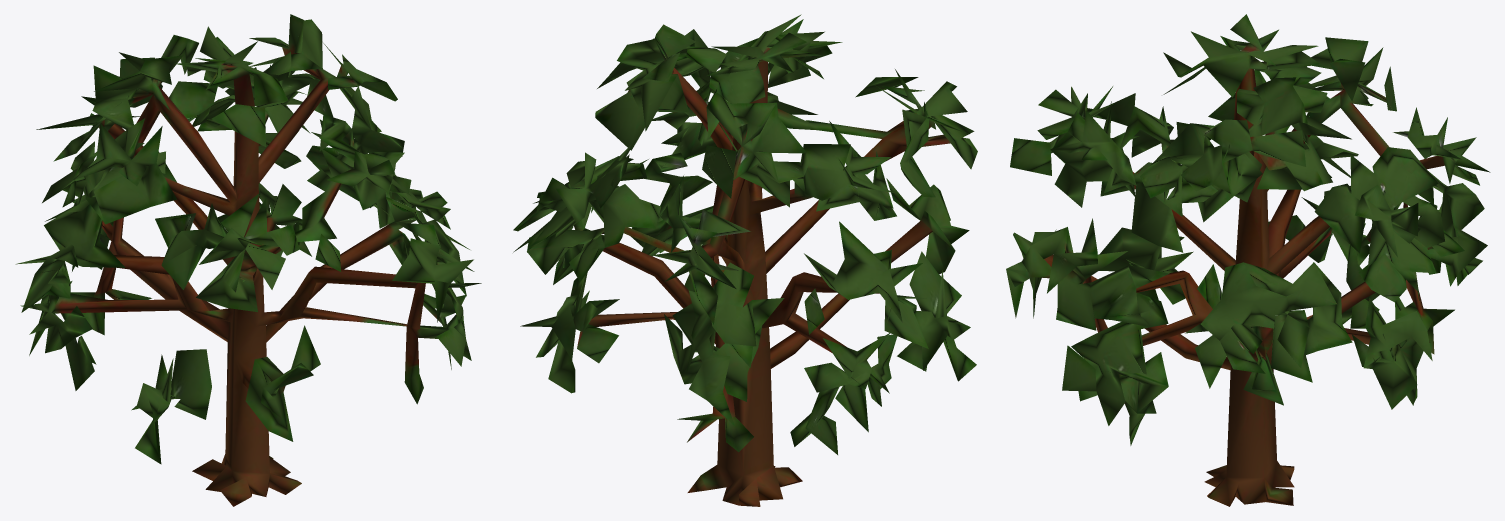
Rendered from hill_tree_lychee.glb.
3 views of the same model, side by side, from view 1: azimuth 30°, elevation 25°; view 2: azimuth 150°, elevation 25°; view 3: azimuth 270°, elevation 25° (orthographic). The views are drawn at different scales.
Visible parts, largest first — view 1: tripo_node_9fe06139-5545-45f0-b8ac-6cb343ee316e; view 2: tripo_node_9fe06139-5545-45f0-b8ac-6cb343ee316e; view 3: tripo_node_9fe06139-5545-45f0-b8ac-6cb343ee316e.
Boxes of the visible parts, bbox=[...] form: tripo_node_9fe06139-5545-45f0-b8ac-6cb343ee316e: bbox=[15, 14, 481, 506]; tripo_node_9fe06139-5545-45f0-b8ac-6cb343ee316e: bbox=[513, 14, 977, 506]; tripo_node_9fe06139-5545-45f0-b8ac-6cb343ee316e: bbox=[1006, 14, 1490, 506].
Bounding box in the file's own units: 0.8916 × 0.93 × 0.9115.
1 material, 1 textured.
